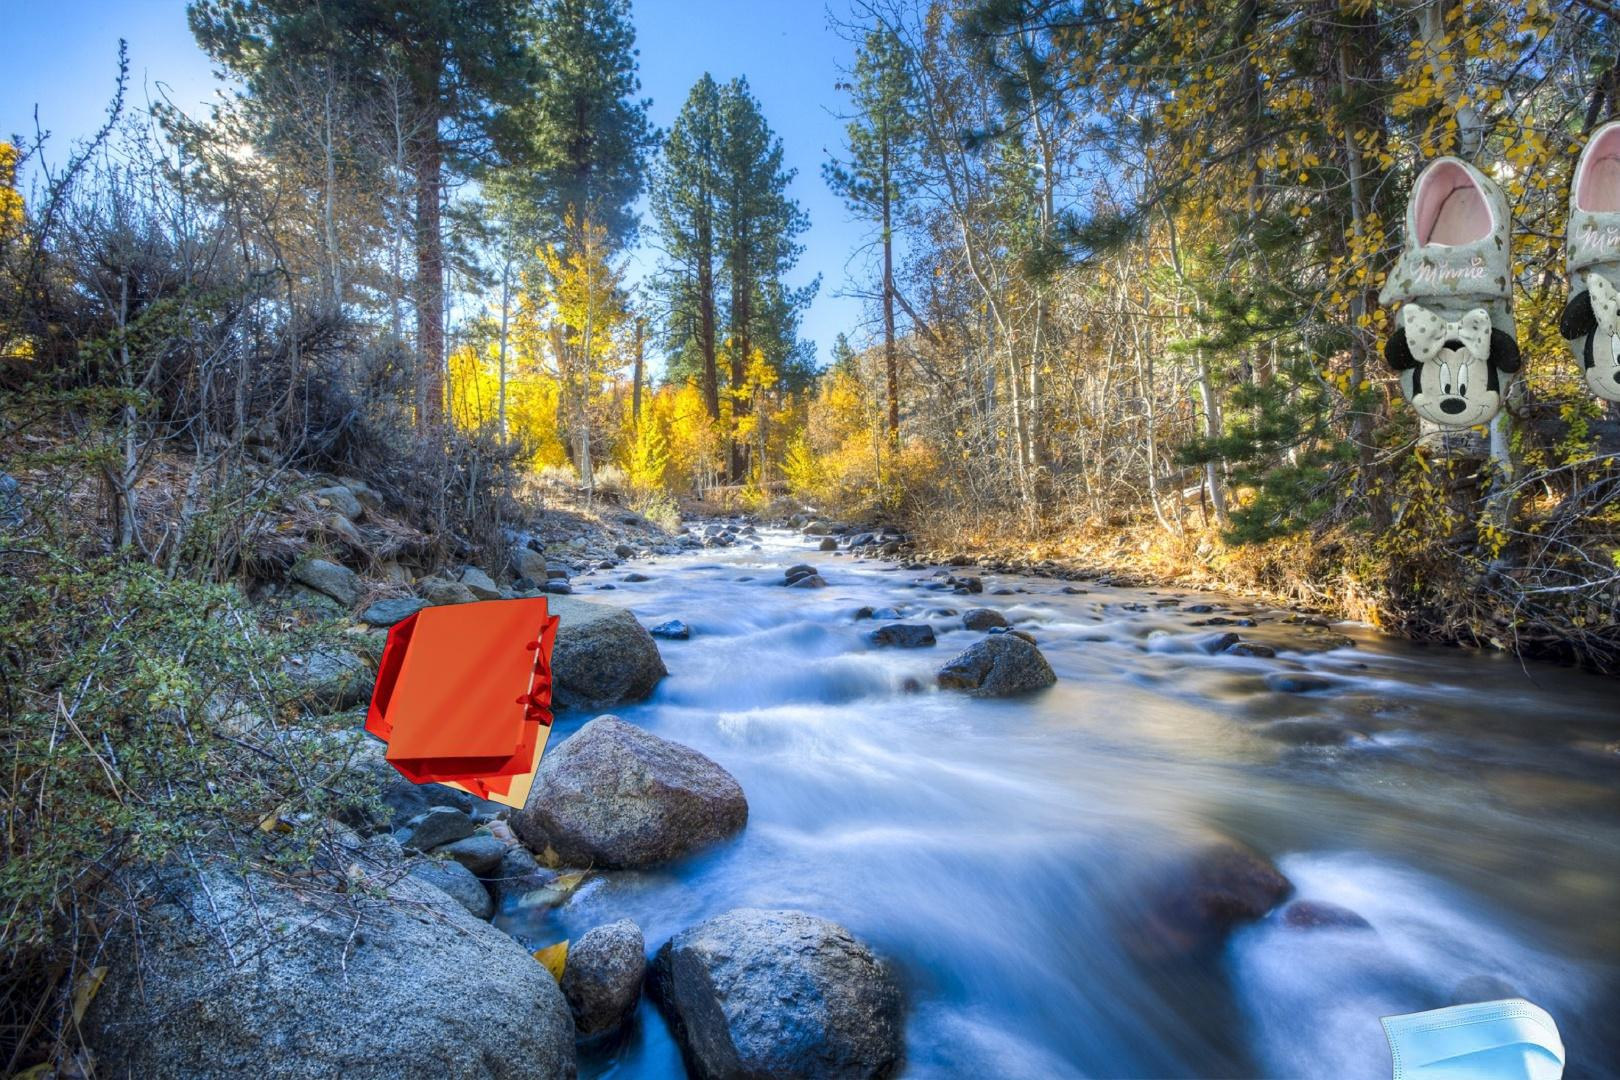paper-bag: (362, 591, 564, 812)
shoes: (1373, 25, 1620, 432)
trash: (1375, 972, 1565, 1080)
